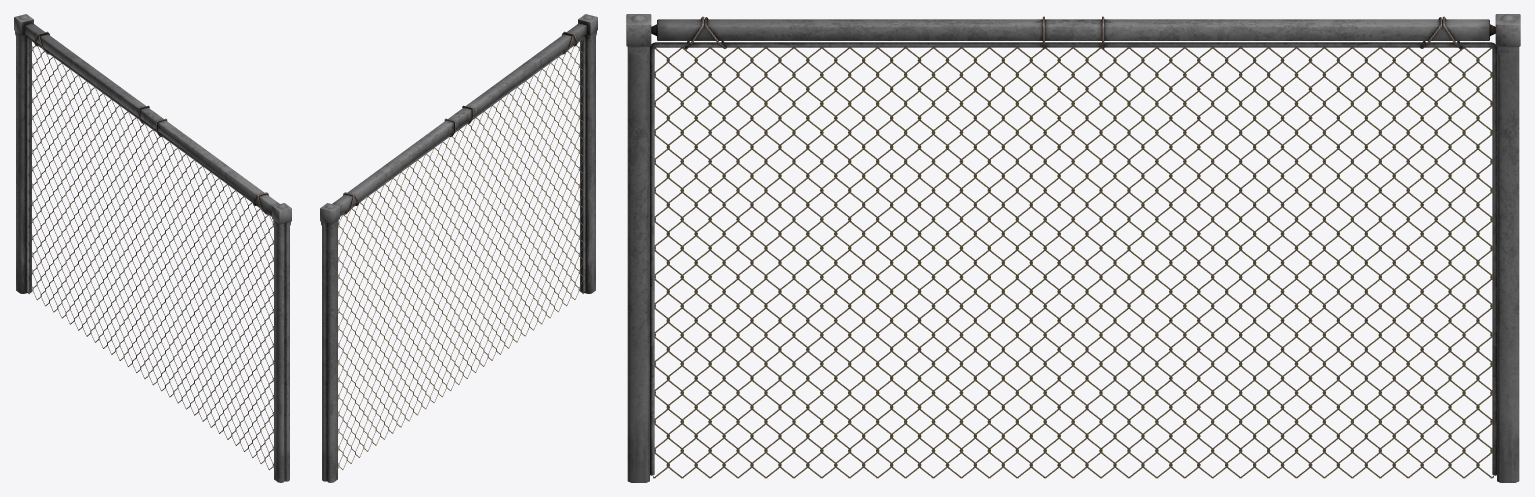
The model's file is fencing_pplant.dae.
3 renders of one model, left to right at view 1: azimuth 30°, elevation 25°; view 2: azimuth 150°, elevation 25°; view 3: azimuth 270°, elevation 25°, orthographic. The views are drawn at different scales.
Visible parts, largest first — view 1: chainlink, low; view 2: chainlink, low; view 3: chainlink, low.
Boxes of the visible parts, x1,y1,x2,y2 form: chainlink: [28, 39, 273, 470]; low: [14, 14, 291, 482]; chainlink: [338, 39, 583, 469]; low: [320, 14, 597, 482]; chainlink: [653, 47, 1493, 478]; low: [626, 14, 1520, 482].
Size of the model in its own units: 0.1111 by 2.27 by 3.98.
